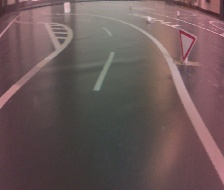give way sign: (178, 28, 197, 62)
